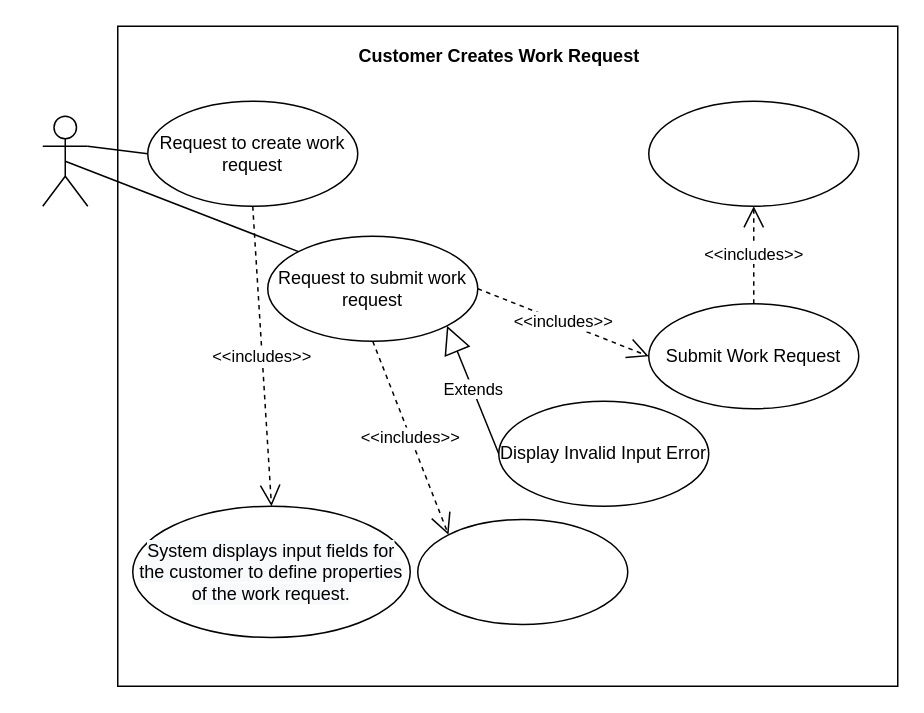
The diagram is 924 pixels wide and 713 high, and some of its shapes have lost their labels. The centre of each missing label's shape, as x and y in pixels:
Customer: pixel 64 160
Database creates new record in the Work Listings table.: pixel 753 153
Validate Customer Input: pixel 522 571
